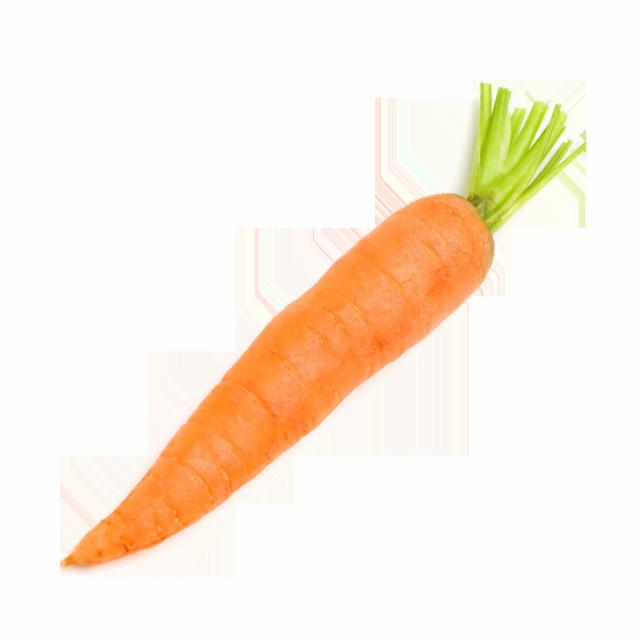Carrot: (62, 86, 588, 585)
